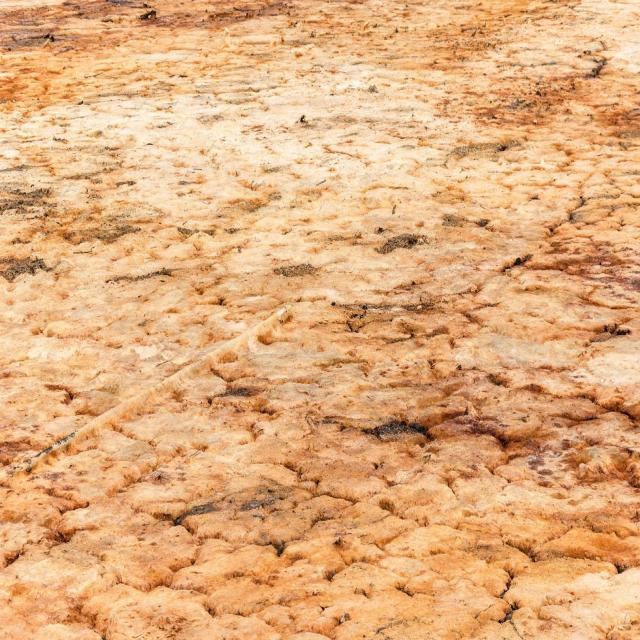suelo_seco: (135, 65, 495, 572)
